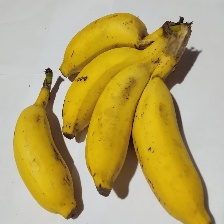banana: (19, 23, 187, 195)
